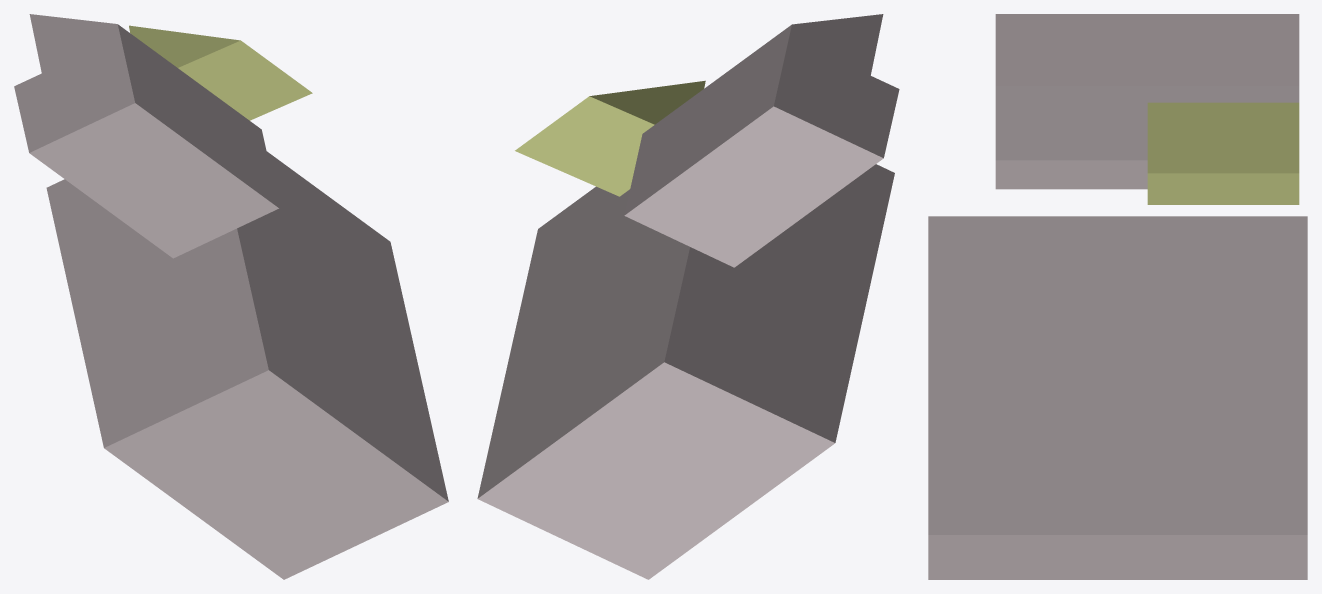
3 renders of one model, left to right at view 1: azimuth 30°, elevation 25°; view 2: azimuth 150°, elevation 25°; view 3: azimuth 270°, elevation 25°, orthographic. The views are drawn at different scales.
Parts seen in each view (by area): view 1: 0_1_3_2_2_2_0; view 2: 0_1_3_2_2_2_0; view 3: 0_1_3_2_2_2_0.
Boxes of the visible parts, box(x1,y1,x2,y2) form: 0_1_3_2_2_2_0: box(14, 14, 448, 579); 0_1_3_2_2_2_0: box(477, 14, 899, 579); 0_1_3_2_2_2_0: box(928, 14, 1307, 579).
Size of the model in its own units: 12.44 by 20.96 by 15.
